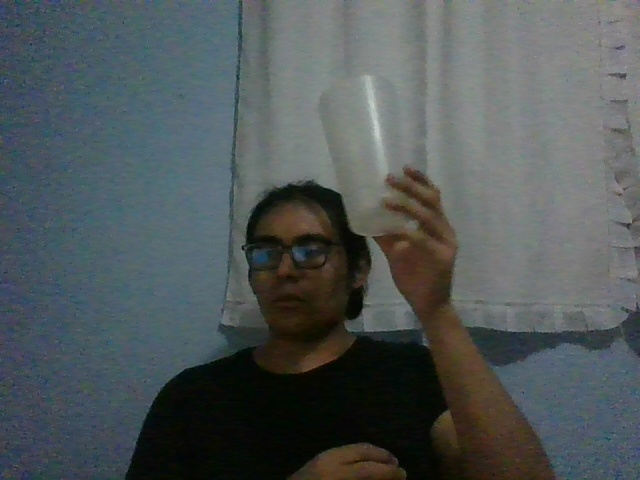vaso: (317, 74, 407, 237)
